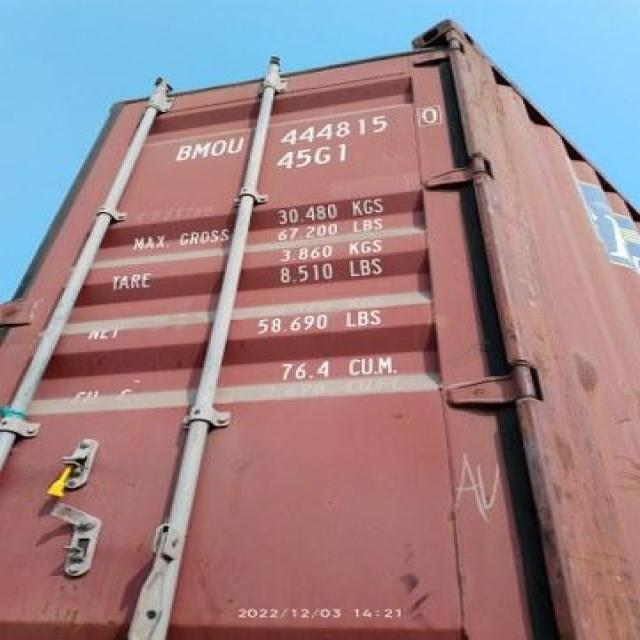ISO: (276, 145, 350, 167)
container_number: (174, 102, 454, 168)
